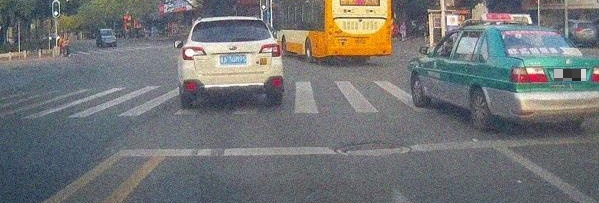L_light: (510, 66, 548, 83), (182, 46, 207, 60)
R_light: (258, 43, 282, 58), (591, 66, 599, 82)
T_light: (223, 20, 239, 23), (530, 31, 545, 34)
day-left: (178, 15, 285, 105)
day-no: (493, 24, 599, 130)
plate_1: (554, 69, 586, 81)
